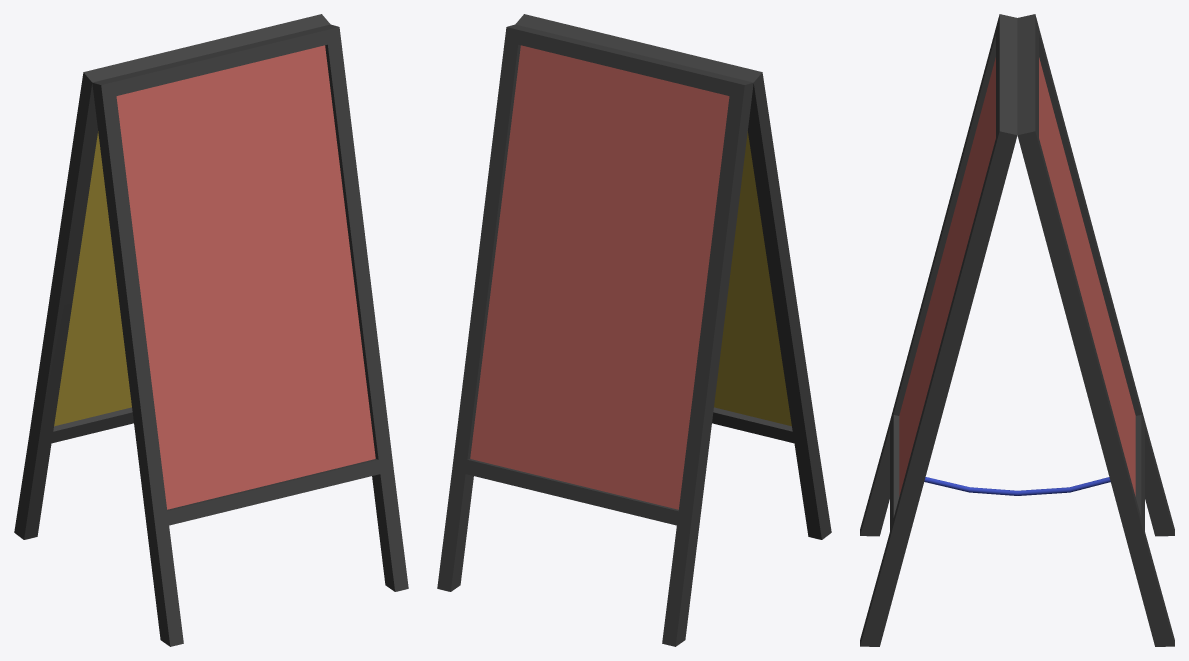
The model's file is StoreSign_Mesh.fbx.
The picture shows the model from 3 angles, left to right: view 1: azimuth 30°, elevation 25°; view 2: azimuth 150°, elevation 25°; view 3: azimuth 270°, elevation 25°; orthographic projection.
Parts seen in each view (by area): view 1: StoreSign; view 2: StoreSign; view 3: StoreSign.
Boxes of the visible parts, <box> form: StoreSign: <box>14,14,408,646</box>; StoreSign: <box>437,14,831,646</box>; StoreSign: <box>860,14,1174,646</box>.
Size of what is drawn, in the model's own units: 60 by 123 by 68.07.
